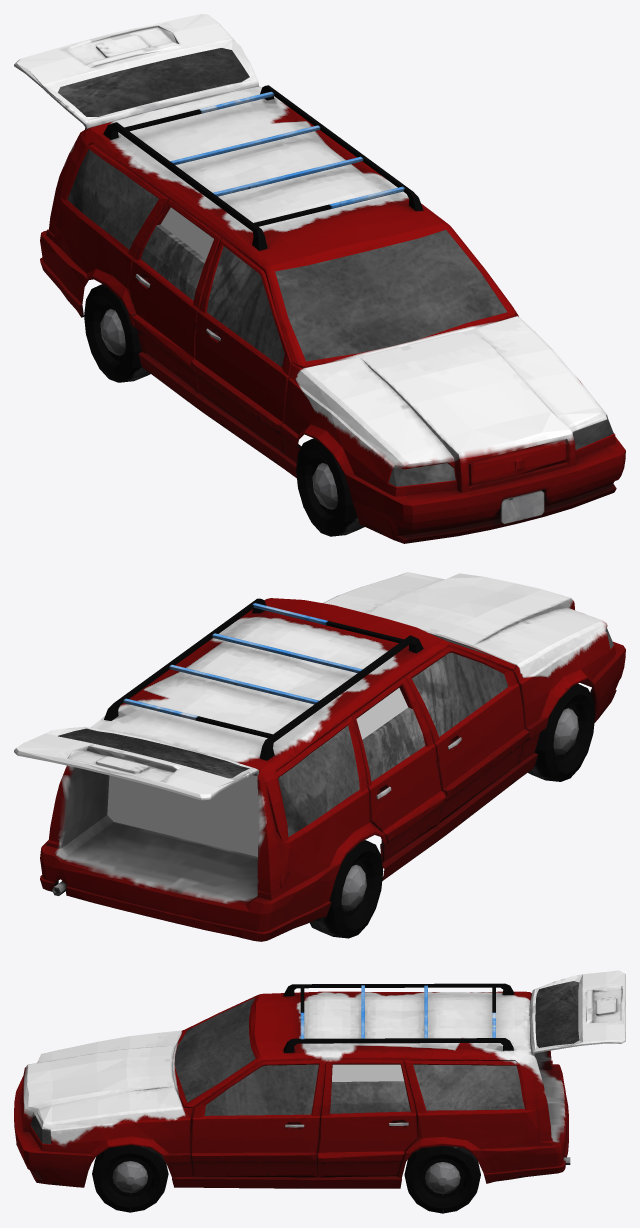
Rendered from StationWagon_01.fbx.
3 views of the same model, one above another, from view 1: azimuth 30°, elevation 25°; view 2: azimuth 150°, elevation 25°; view 3: azimuth 270°, elevation 25° (orthographic). The views are drawn at different scales.
Visible parts, largest first — view 1: SM_StationWagon_01.mo; view 2: SM_StationWagon_01.mo; view 3: SM_StationWagon_01.mo.
Boxes of the visible parts, x1,y1,x2,y2 form: SM_StationWagon_01.mo: (14, 14, 625, 543); SM_StationWagon_01.mo: (14, 572, 625, 941); SM_StationWagon_01.mo: (14, 970, 625, 1213).
Size of the model in its own units: 207 by 173 by 576.
